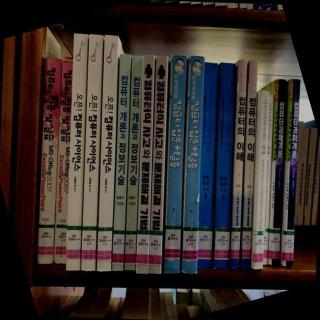book-spine: (65, 34, 88, 271), (37, 58, 61, 265), (82, 35, 103, 271), (182, 56, 204, 274), (98, 35, 118, 272), (165, 55, 186, 273), (136, 56, 156, 274), (197, 63, 218, 269), (214, 63, 235, 269), (112, 55, 132, 271), (149, 56, 168, 274), (124, 56, 143, 270), (55, 61, 74, 264), (241, 60, 258, 269), (230, 61, 247, 269), (253, 90, 269, 270), (285, 79, 300, 267), (272, 79, 285, 267), (282, 79, 293, 267), (262, 94, 274, 265), (268, 79, 279, 265), (217, 233, 229, 264), (199, 232, 211, 258), (99, 233, 111, 258), (69, 231, 81, 256), (83, 233, 94, 258), (185, 233, 196, 258), (139, 235, 149, 260), (151, 237, 161, 260), (115, 235, 124, 260), (127, 235, 136, 258), (41, 229, 53, 246), (243, 233, 251, 257), (270, 235, 278, 258), (284, 237, 292, 260), (255, 237, 262, 260), (57, 229, 66, 246), (233, 233, 239, 258), (266, 236, 272, 257), (264, 235, 267, 256)
